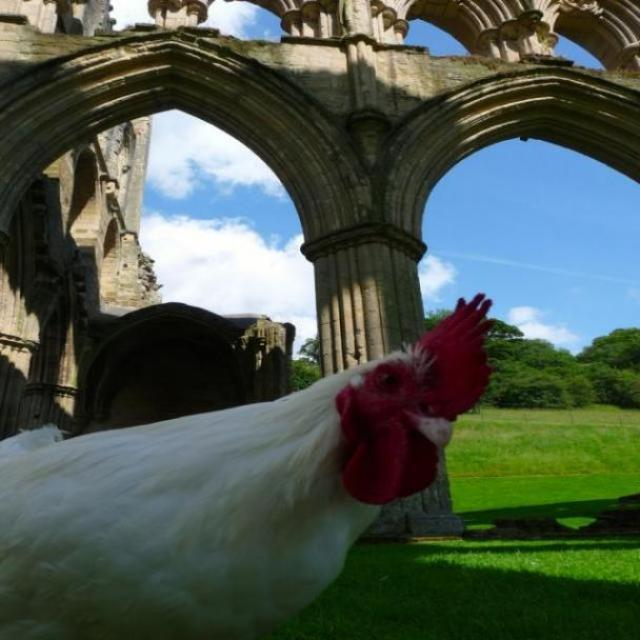Chicken: (0, 301, 493, 622)
